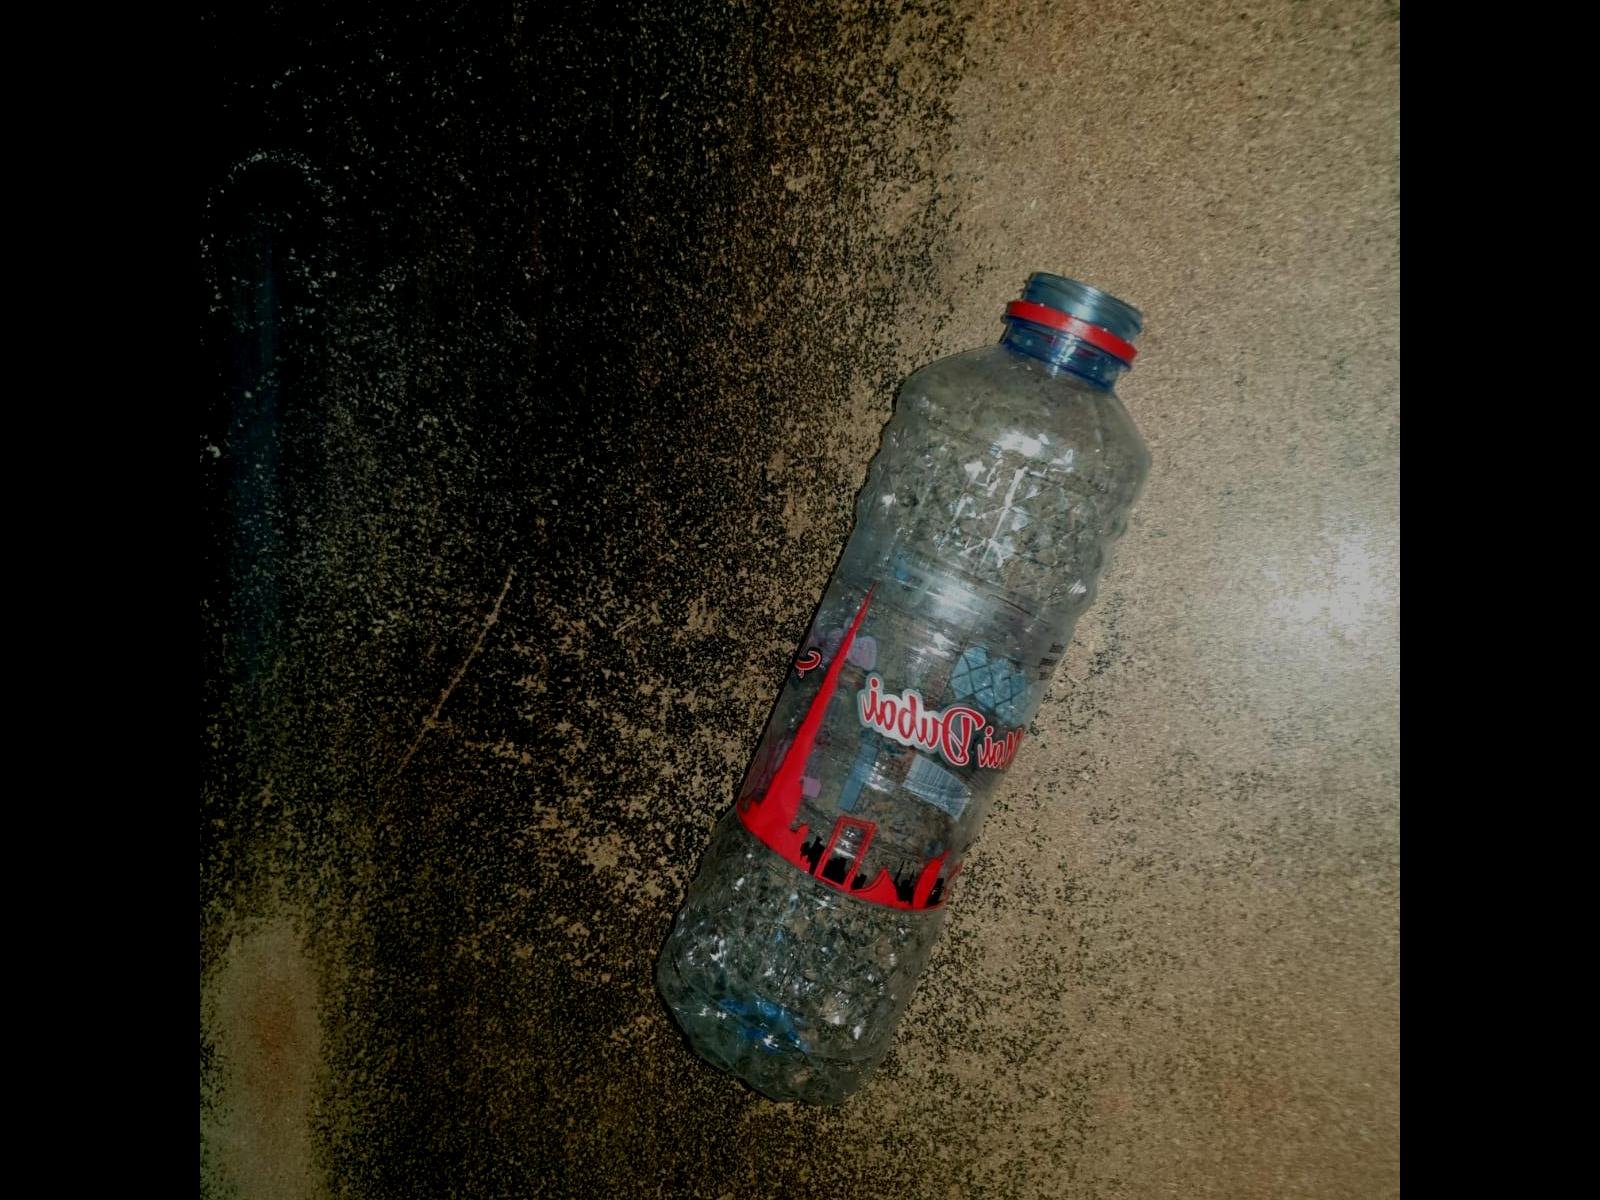bottle: (651, 261, 1192, 1111)
